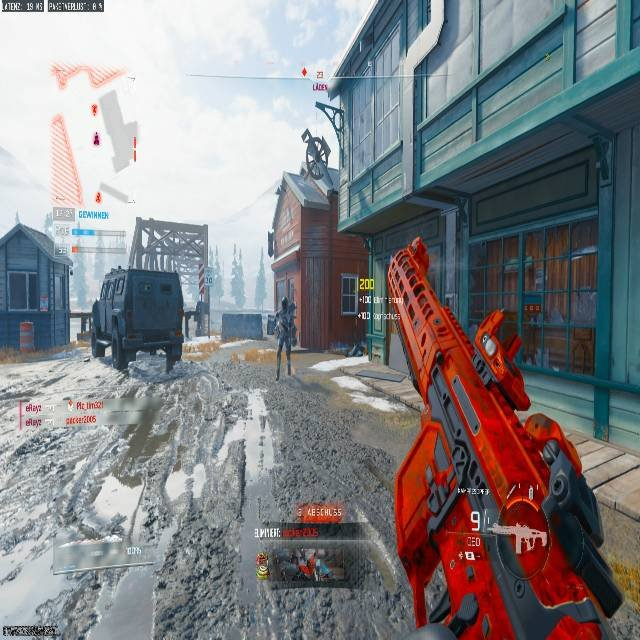head: (281, 296, 288, 308)
player: (273, 297, 297, 376)
